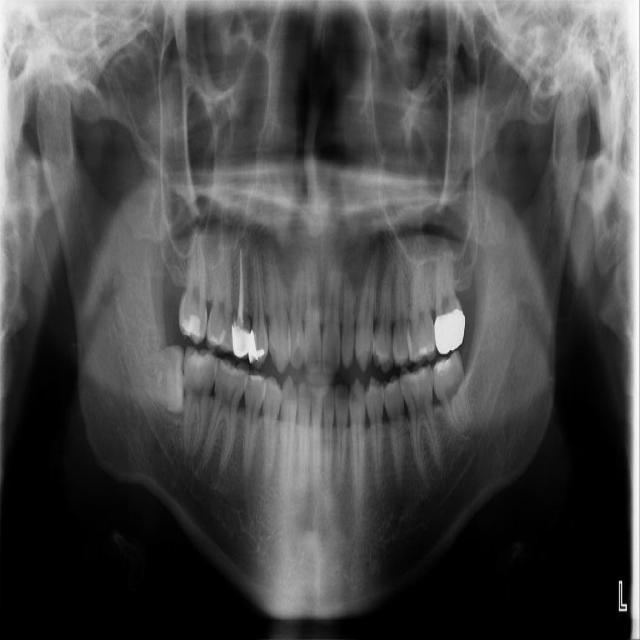52: (204, 350, 254, 406), (173, 289, 214, 347), (428, 349, 468, 404), (180, 345, 221, 397), (434, 297, 466, 355), (205, 302, 239, 355), (405, 311, 437, 366), (241, 364, 268, 413), (230, 309, 252, 360), (248, 315, 268, 370)
73: (231, 239, 248, 312), (551, 562, 557, 573)
BioHorizons Implant: (431, 236, 466, 356)
Biomet 3i Implant: (426, 348, 480, 444)
Blue Sky Bio Implant: (181, 344, 219, 455)
Caries: (178, 227, 208, 345)
Keystone Dental Implant: (138, 343, 186, 414)
